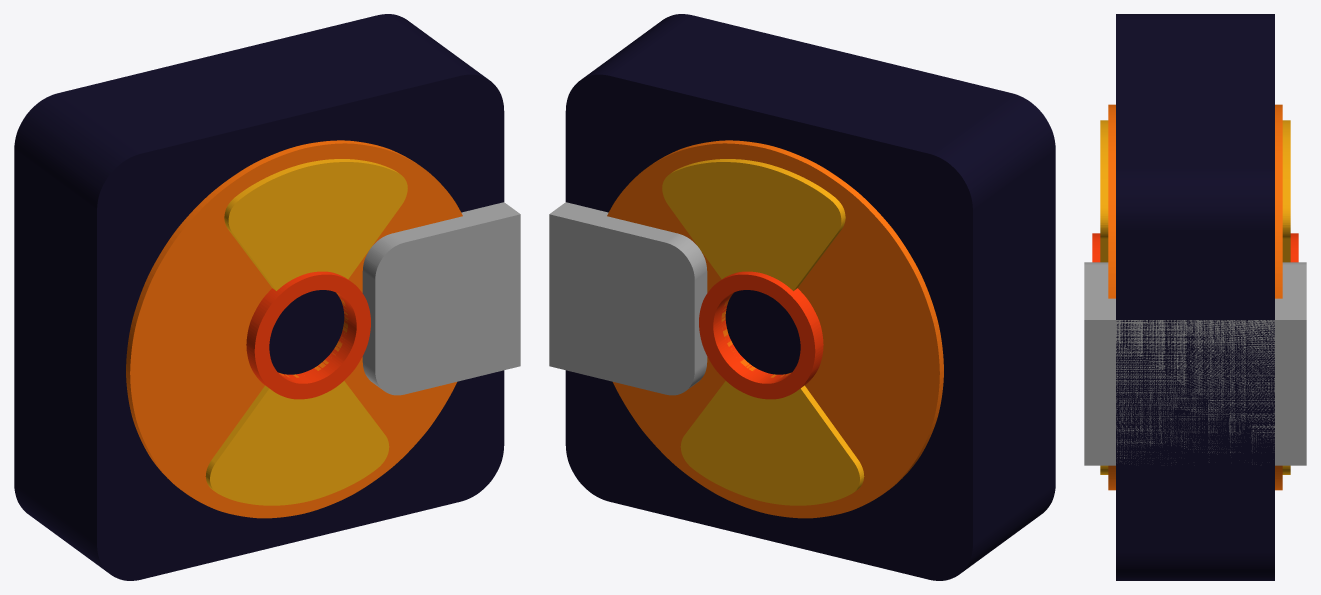
The picture shows the model from 3 angles, left to right: view 1: azimuth 30°, elevation 25°; view 2: azimuth 150°, elevation 25°; view 3: azimuth 270°, elevation 25°; orthographic projection. The views are drawn at different scales.
Parts seen in each view (by area): view 1: U+1F4BD_layer00_obj00, U+1F4BD_layer01_obj00, U+1F4BD_layer02_obj00, U+1F4BD_layer04_obj00, U+1F4BD_layer03_obj00; view 2: U+1F4BD_layer00_obj00, U+1F4BD_layer01_obj00, U+1F4BD_layer02_obj00, U+1F4BD_layer04_obj00, U+1F4BD_layer03_obj00; view 3: U+1F4BD_layer00_obj00, U+1F4BD_layer04_obj00, U+1F4BD_layer01_obj00, U+1F4BD_layer02_obj00, U+1F4BD_layer03_obj00.
Boxes of the visible parts, x1=… form: U+1F4BD_layer00_obj00: x1=14, y1=14, x2=504, y2=580; U+1F4BD_layer01_obj00: x1=126, y1=140, x2=462, y2=518; U+1F4BD_layer02_obj00: x1=205, y1=159, x2=407, y2=505; U+1F4BD_layer04_obj00: x1=362, y1=202, x2=520, y2=395; U+1F4BD_layer03_obj00: x1=246, y1=271, x2=370, y2=399; U+1F4BD_layer00_obj00: x1=565, y1=14, x2=1055, y2=580; U+1F4BD_layer01_obj00: x1=607, y1=140, x2=943, y2=518; U+1F4BD_layer02_obj00: x1=662, y1=159, x2=864, y2=505; U+1F4BD_layer04_obj00: x1=549, y1=202, x2=707, y2=395; U+1F4BD_layer03_obj00: x1=699, y1=271, x2=823, y2=399; U+1F4BD_layer00_obj00: x1=1116, y1=14, x2=1274, y2=580; U+1F4BD_layer04_obj00: x1=1084, y1=262, x2=1306, y2=465; U+1F4BD_layer01_obj00: x1=1108, y1=104, x2=1282, y2=490; U+1F4BD_layer02_obj00: x1=1100, y1=120, x2=1290, y2=474; U+1F4BD_layer03_obj00: x1=1092, y1=233, x2=1298, y2=262.
Size of the model in its own units: 0.5678 by 0.5677 by 0.28.
